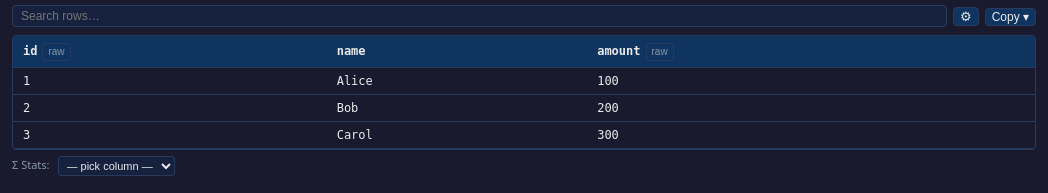
ResultsTable › full-text search filters rows to show only matching
Type "Alice" into the field with placeholder "Search rows…".
click(480, 16); type("Alice")  # box [12,5,947,27]
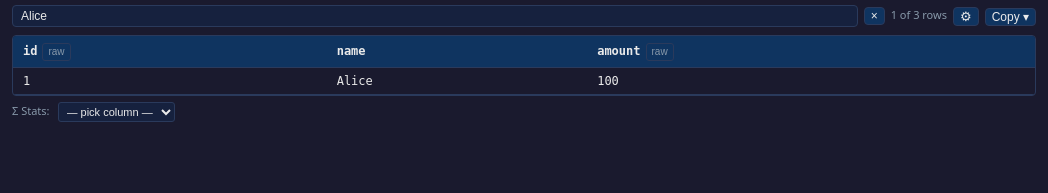
Expected: the text "Alice" is shown, [327,67,587,94]
Expected: the text "Bob" is gone
Expected: the text "Carol" is gone
